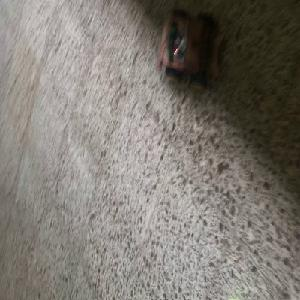Robot: (161, 14, 226, 89)
